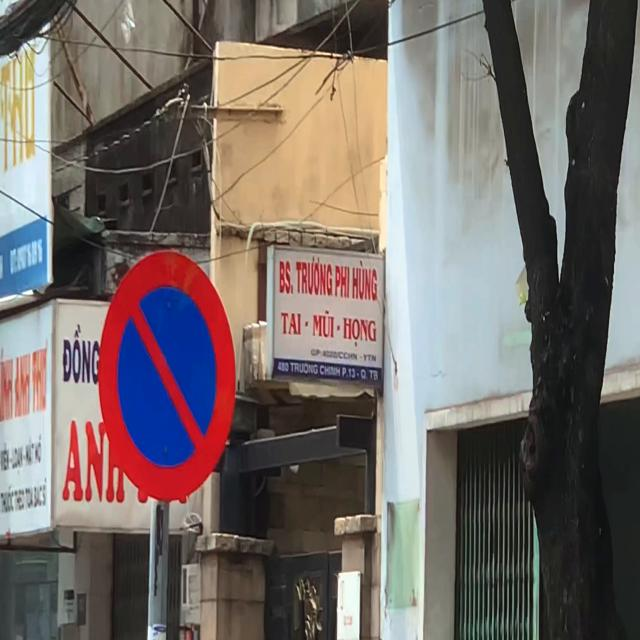Cam do: (98, 250, 236, 504)
